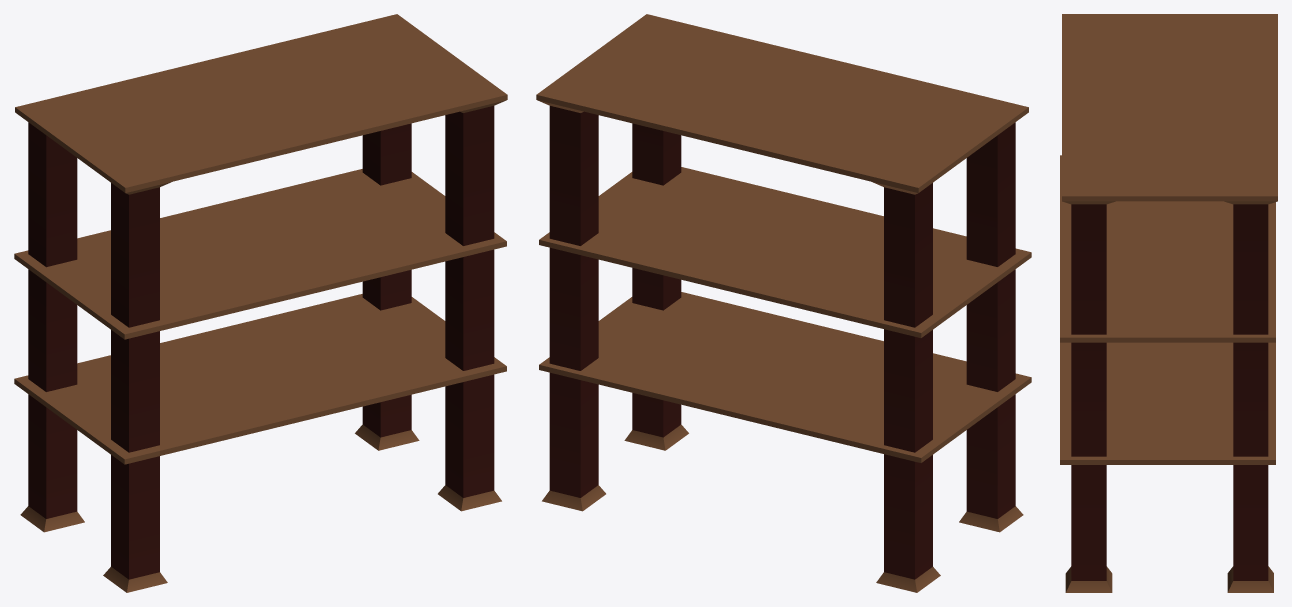
File: Mid_Shelf - Final.fbx
3 views of the same model, side by side, from view 1: azimuth 30°, elevation 25°; view 2: azimuth 150°, elevation 25°; view 3: azimuth 270°, elevation 25° (orthographic). The views are drawn at different scales.
Visible parts, largest first — view 1: Shelf_Mid; view 2: Shelf_Mid; view 3: Shelf_Mid.
Part boxes in pixels (x1,y1,x2,y2): Shelf_Mid: (14, 14, 507, 592); Shelf_Mid: (536, 14, 1031, 592); Shelf_Mid: (1060, 14, 1277, 592).
Size of the model in its own units: 226 by 229 by 113.
